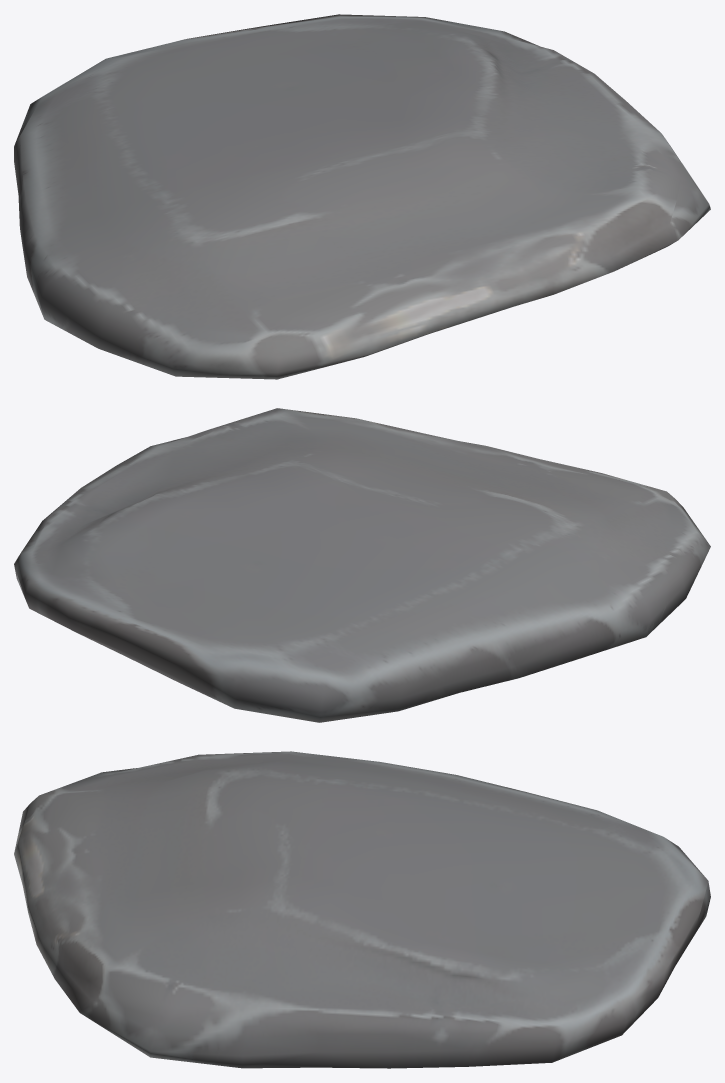
The model's file is rock_small_002.fbx.
3 renders of one model, top to bottom at view 1: azimuth 30°, elevation 25°; view 2: azimuth 150°, elevation 25°; view 3: azimuth 270°, elevation 25°, orthographic. The views are drawn at different scales.
Parts seen in each view (by area): view 1: rock_small_002; view 2: rock_small_002; view 3: rock_small_002.
Part boxes in pixels (x1=…): rock_small_002: x1=14, y1=14, x2=710, y2=379; rock_small_002: x1=14, y1=408, x2=710, y2=722; rock_small_002: x1=14, y1=751, x2=710, y2=1068.
Size of the model in its own units: 3.31 by 0.535 by 3.26.
